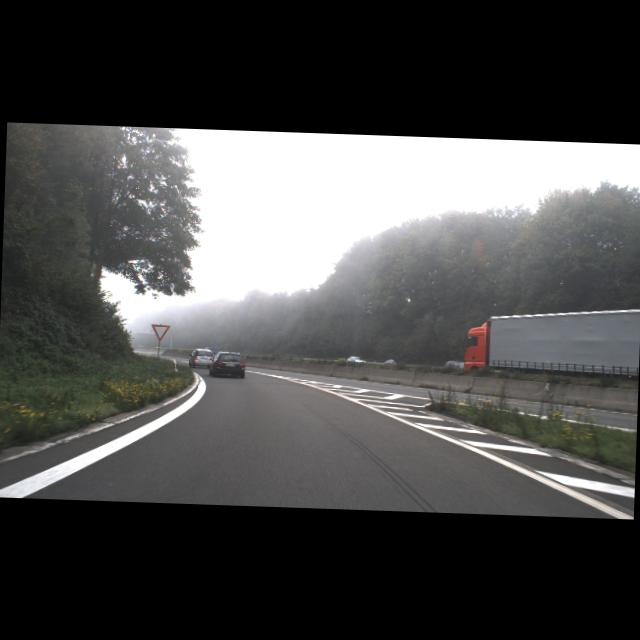other: (150, 322, 171, 340)
